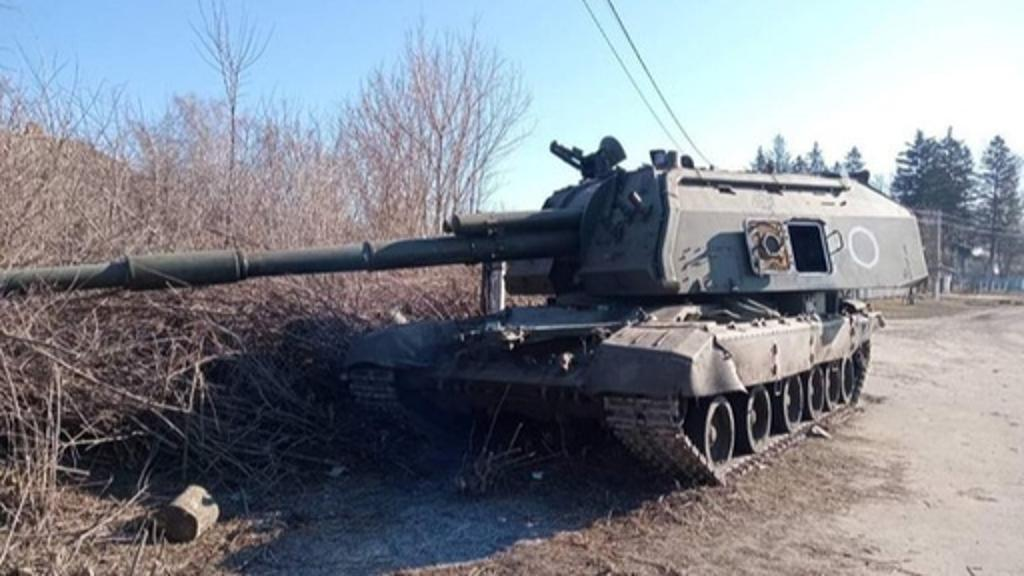ART: (0, 140, 932, 484)
